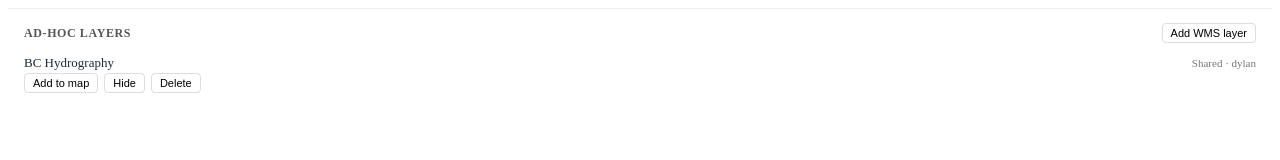
Test: AdhocLayerSection › Papa's rule: hide for me, delete only if it is mine › shows the server's own 403 text if a delete is refused anyway
What coordinates should you click on to do the following:
click the button with aria-label "delete BC Hydrography"
I would click on:
 (176, 83)
Its box is 151,73 -> 201,93.
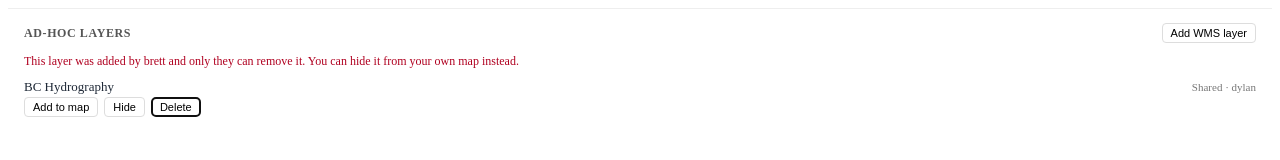
Expected: the message shows "added by brett", 24,54 -> 519,68
